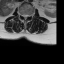CCS_normal: (24, 12, 26, 21)
LFS_normal: (28, 12, 30, 19)
LLS_normal: (26, 12, 28, 20)
RFS_normal: (20, 12, 22, 18)
RLS_normal: (22, 12, 24, 19)
